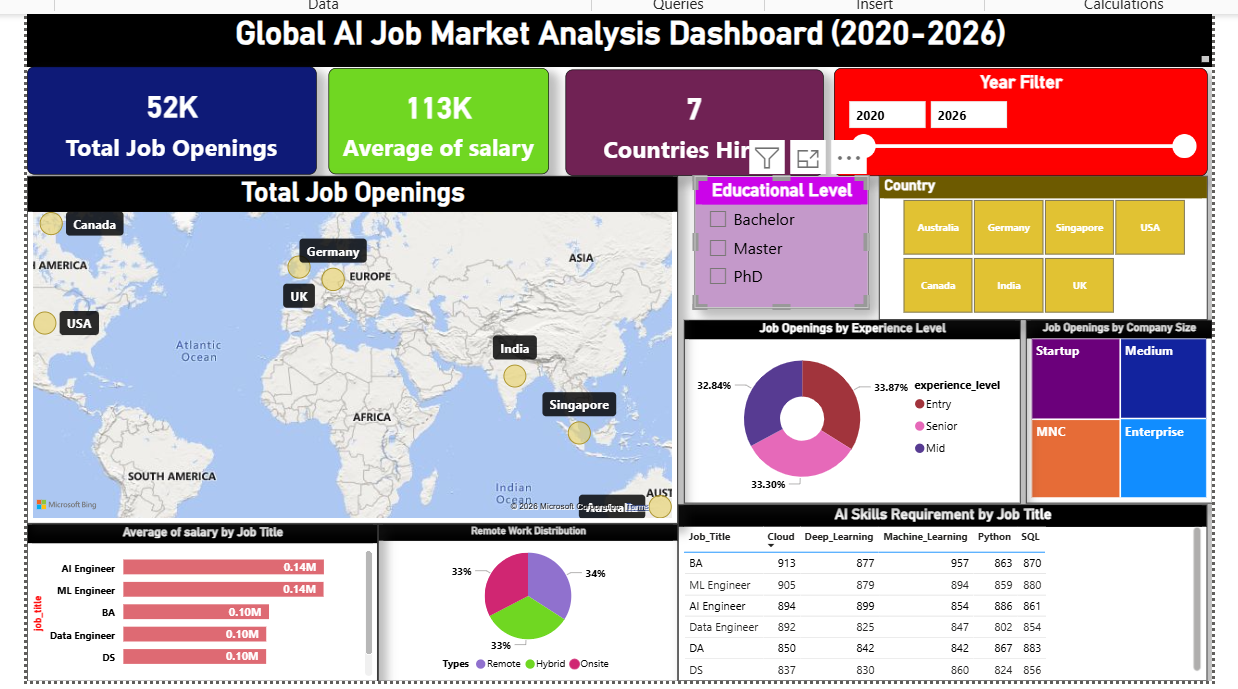

This screenshot's page, from the dashboard's own definition file:
{"tool":"powerbi","page":{"name":"Dashboard","canvas":[1280,720],"ordinal":6},"visuals":[{"type":"textbox","title":" Global AI Job Market Analysis Dashboard (2020-2026)","box":[0,0,1280.8,56.7],"z":0},{"type":"card","fields":{"Values":["Sum(AI Job Market Dataset.job_openings)"]},"box":[0,56.7,312.5,116.6],"z":1000},{"type":"card","fields":{"Values":["Avg(AI Job Market Dataset.salary)"]},"box":[325.5,58.3,238,115],"z":2000},{"type":"card","fields":{"Values":["Count(AI Job Market Dataset.country)"]},"box":[581.3,59.9,278.5,115],"z":3000},{"type":"slicer","title":"Year Filter","fields":{"Values":["AI Job Market Dataset.job_posting_year"]},"box":[871.1,58.3,403.2,116.6],"z":4000},{"type":"treemap","title":"Job Openings by Company Size","fields":{"Group":["AI Job Market Dataset.company_size"],"Values":["Sum(AI Job Market Dataset.job_openings)"]},"box":[1079,331,201,198],"z":5000},{"type":"pieChart","title":"Remote Work Distribution","fields":{"Category":["AI Job Market Dataset.remote_type"],"Y":["Sum(AI Job Market Dataset.job_openings)"]},"box":[378.9,550.5,323.8,170],"z":6000},{"type":"tableEx","title":"AI Skills Requirement by Job Title","fields":{"Values":["AI Job Market Dataset.job_title","Sum(AI Job Market Dataset.skills_cloud)","Sum(AI Job Market Dataset.skills_deep_learning)","Sum(AI Job Market Dataset.skills_ml)","Sum(AI Job Market Dataset.skills_python)","Sum(AI Job Market Dataset.skills_sql)"]},"box":[702.7,528.8,571.2,191],"z":7000},{"type":"donutChart","title":"Job Openings by Experience Level","fields":{"Category":["AI Job Market Dataset.experience_level"],"Y":["Sum(AI Job Market Dataset.job_openings)"]},"box":[709.9,330.6,363.1,198.2],"z":8000},{"type":"barChart","title":"Average of salary by Job Title","fields":{"Category":["AI Job Market Dataset.job_title"],"Y":["Avg(AI Job Market Dataset.salary)"]},"box":[0,550.5,378.9,170],"z":9000},{"type":"map","title":"Total Job Openings","fields":{"Category":["AI Job Market Dataset.country"],"Size":["Sum(AI Job Market Dataset.job_openings)"]},"box":[0,174.9,702.7,375.7],"z":10000},{"type":"slicer","title":"Educational Level","fields":{"Values":["AI Job Market Dataset.education_level"]},"box":[720.6,174.9,187.8,142.5],"z":11000},{"type":"slicer","title":"Country","fields":{"Values":["AI Job Market Dataset.country"]},"box":[919.7,174.9,354.6,155.4],"z":12000}]}

Visuals, with their boxes on the page's 1280x720 design canvas (x1, y1, x2, y2). These are canvas units, not pixel positions in the 1238x689 screenshot, which may show the page scaled, cropped or inside an application window:
" Global AI Job Market Analysis Dashboard (2020-2026)" textbox: crop(0, 0, 1281, 57)
card - Sum(AI Job Market Dataset.job_openings): crop(0, 57, 312, 173)
card - Avg(AI Job Market Dataset.salary): crop(326, 58, 564, 173)
card - Count(AI Job Market Dataset.country): crop(581, 60, 860, 175)
"Year Filter" slicer: crop(871, 58, 1274, 175)
"Job Openings by Company Size" treemap: crop(1079, 331, 1280, 529)
"Remote Work Distribution" pieChart: crop(379, 550, 703, 720)
"AI Skills Requirement by Job Title" tableEx: crop(703, 529, 1274, 720)
"Job Openings by Experience Level" donutChart: crop(710, 331, 1073, 529)
"Average of salary by Job Title" barChart: crop(0, 550, 379, 720)
"Total Job Openings" map: crop(0, 175, 703, 551)
"Educational Level" slicer: crop(721, 175, 908, 317)
"Country" slicer: crop(920, 175, 1274, 330)
